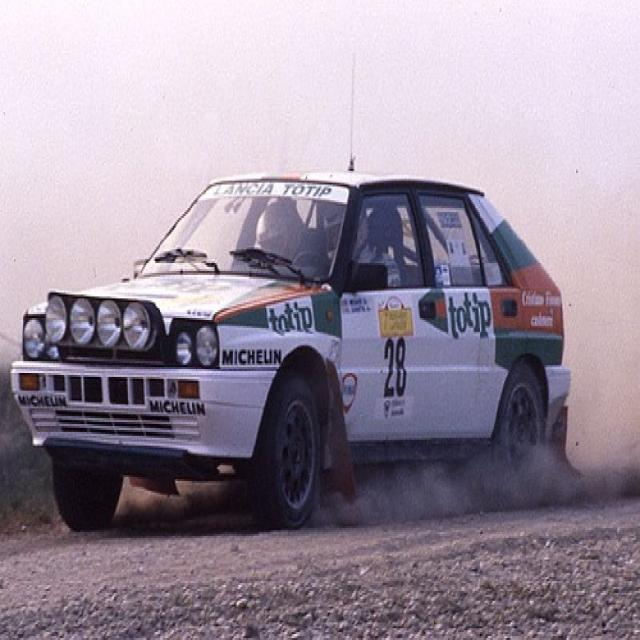car: (8, 177, 572, 532)
